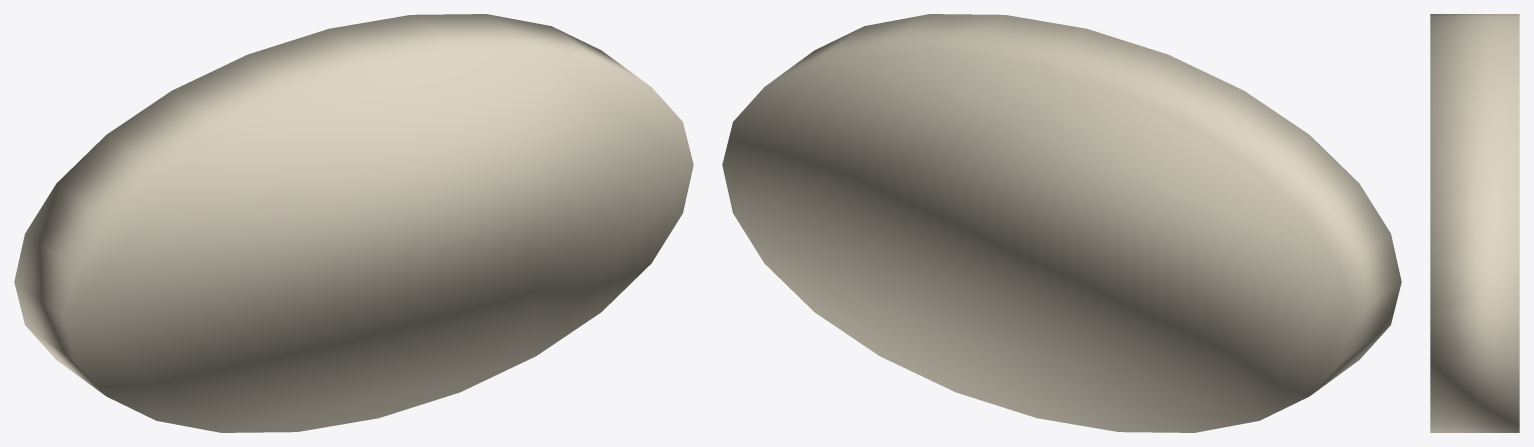
File: shape-oval-colorless.glb
3 renders of one model, left to right at view 1: azimuth 30°, elevation 25°; view 2: azimuth 150°, elevation 25°; view 3: azimuth 270°, elevation 25°, orthographic. The views are drawn at different scales.
Visible parts, largest first — view 1: solid oval; view 2: solid oval; view 3: solid oval.
Boxes of the visible parts, x1,y1,x2,y2 form: solid oval: (14,14,693,432); solid oval: (722,14,1401,432); solid oval: (1430,14,1519,432).
Bounding box in the file's own units: 1.82 × 0.975 × 0.25.
